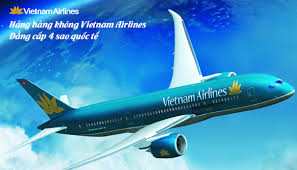maybay_dansu: (25, 20, 295, 169)
